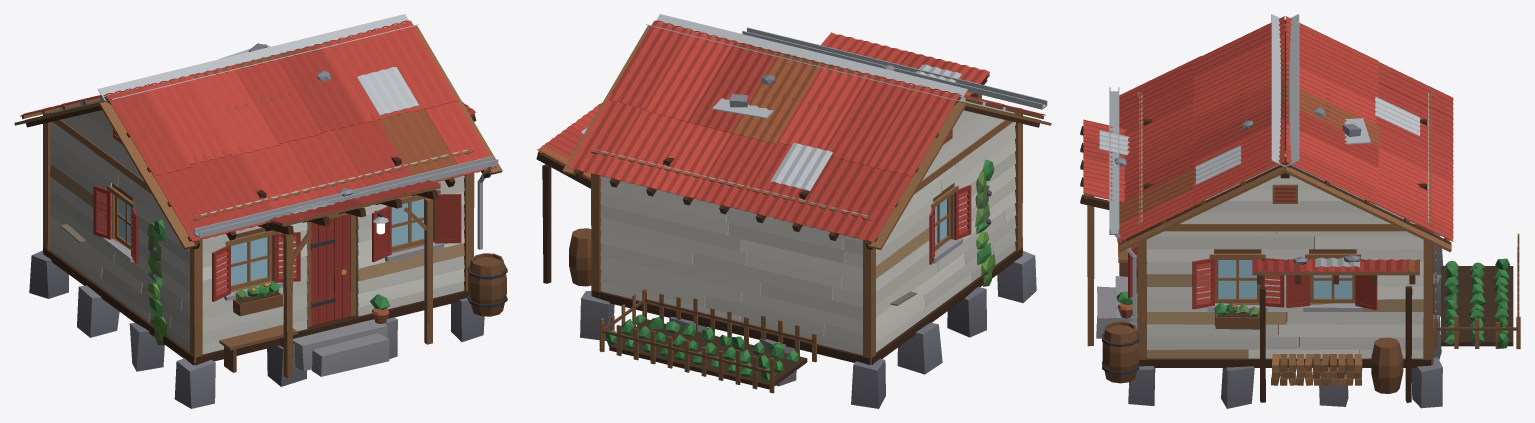
The picture shows the model from 3 angles, left to right: view 1: azimuth 30°, elevation 25°; view 2: azimuth 150°, elevation 25°; view 3: azimuth 270°, elevation 25°; orthographic projection. The views are drawn at different scales.
Parts seen in each view (by area): view 1: P10_ROOF, P10_WALL_S, P10_WALL_W, P10_BASE, P10_DOOR_main, P10_WALL_E; view 2: P10_ROOF, P10_WALL_N, P10_WALL_W, P10_BASE, P10_WALL_S, P10_WALL_E; view 3: P10_ROOF, P10_WALL_E, P10_WALL_S, P10_BASE, P10_WALL_N.
Part boxes in pixels (x1,y1,x2,y2): P10_ROOF: (14, 14, 502, 249); P10_WALL_S: (193, 149, 507, 378); P10_WALL_W: (43, 97, 201, 363); P10_BASE: (29, 247, 484, 408); P10_DOOR_main: (310, 214, 350, 325); P10_WALL_E: (462, 101, 476, 257); P10_ROOF: (562, 14, 1051, 249); P10_WALL_N: (591, 150, 871, 393); P10_WALL_W: (863, 97, 1022, 363); P10_BASE: (580, 248, 1036, 408); P10_WALL_S: (742, 27, 1047, 252); P10_WALL_E: (536, 102, 602, 295); P10_ROOF: (1117, 14, 1453, 252); P10_WALL_E: (1137, 150, 1432, 402); P10_WALL_S: (1080, 87, 1146, 383); P10_BASE: (1096, 232, 1443, 408); P10_WALL_N: (1428, 93, 1520, 364).
Bounding box in the file's own units: 6.41 × 4.37 × 6.93.
